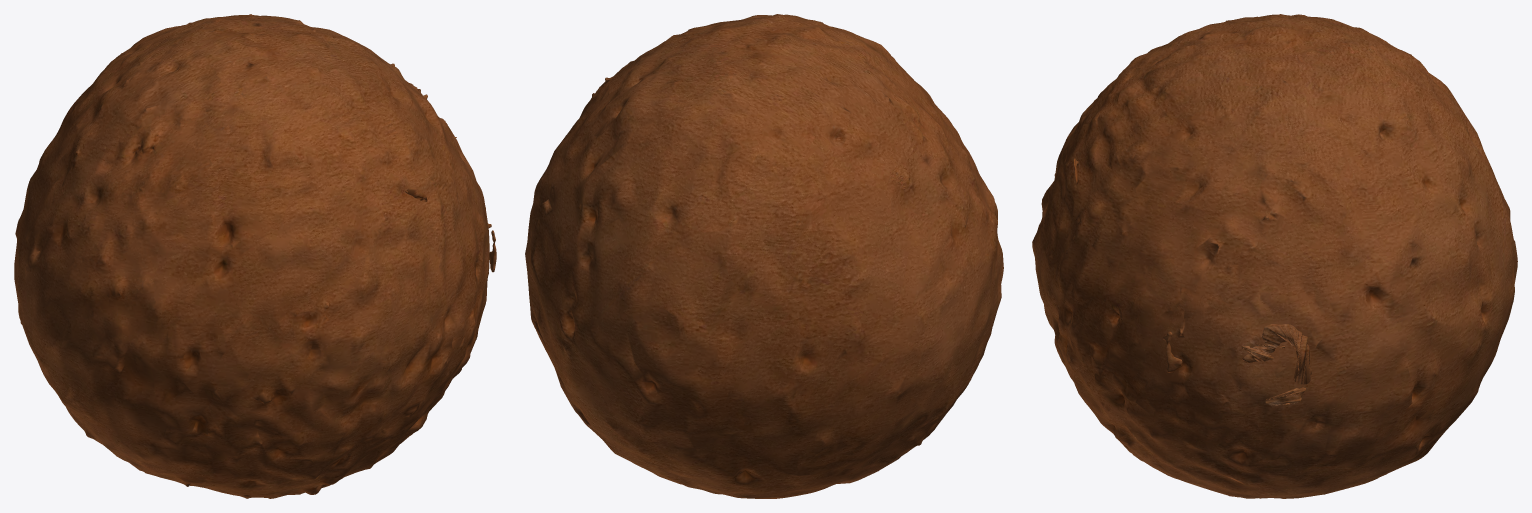
Rendered from bk-decor-truffle-ball.glb.
3 views of the same model, side by side, from view 1: azimuth 30°, elevation 25°; view 2: azimuth 150°, elevation 25°; view 3: azimuth 270°, elevation 25° (orthographic).
Parts seen in each view (by area): view 1: node_0; view 2: node_0; view 3: node_0.
Boxes of the visible parts, bbox=[...] form: node_0: bbox=[14, 14, 496, 498]; node_0: bbox=[525, 14, 1003, 498]; node_0: bbox=[1032, 14, 1517, 498].
Bounding box in the file's own units: 1.16 × 1.16 × 1.15.
Materials: 1 (1 with a texture image).
